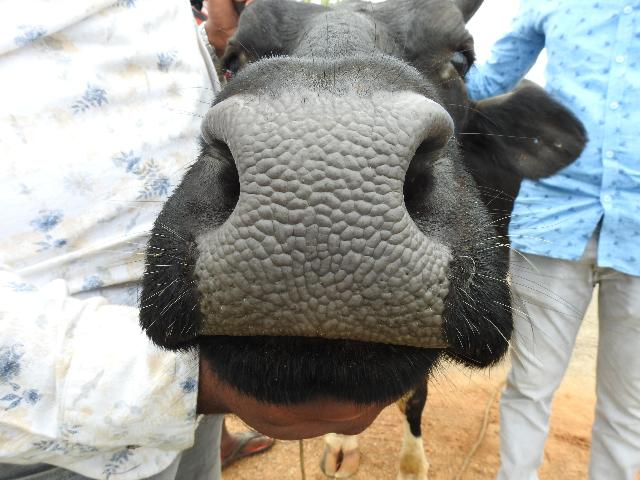Muzzle: (215, 106, 415, 344)
